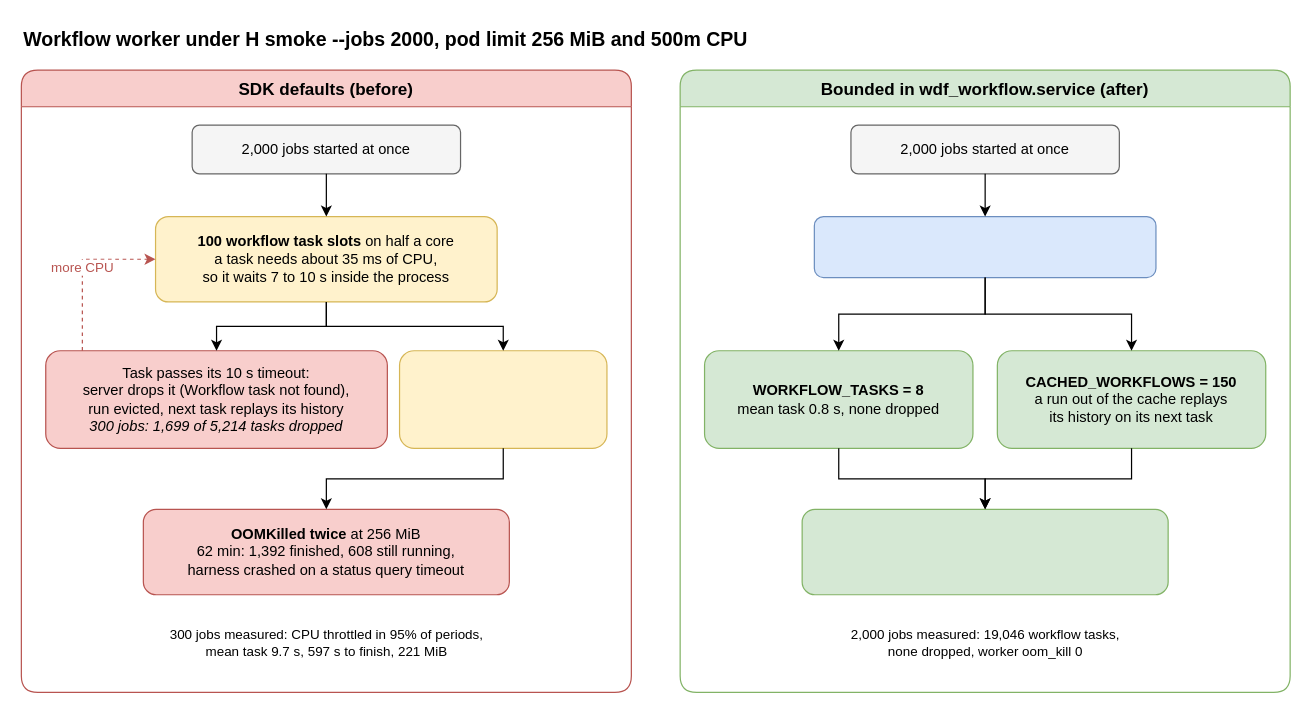
This 1312x714 diagram has some shape labels left out. Here are the shapes that lost their labels. From the top down, the centre of each, then its label:
At point (984, 246): "Tasks wait on the server's task queue, where no workflow task timeout runs".
At point (502, 399): "Cache up to 1,000 runs up to 0.5 MiB each, fills as every job stays open".
At point (984, 551): "finished: 2000, failed: 0 38 min, peak 221 MiB of 256, no restart".
